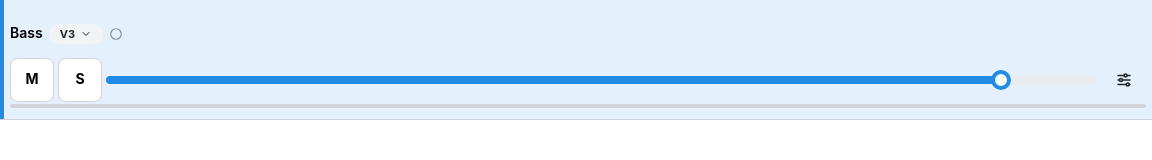
Test: TrackStrip mono/stereo mark › dual mono: the tooltip names the source
This screenshot has width=1152, height=160.
Hover over the picture named "Mono (dual mono source)" at (116, 34), box left=110, top=26, right=124, bottom=40
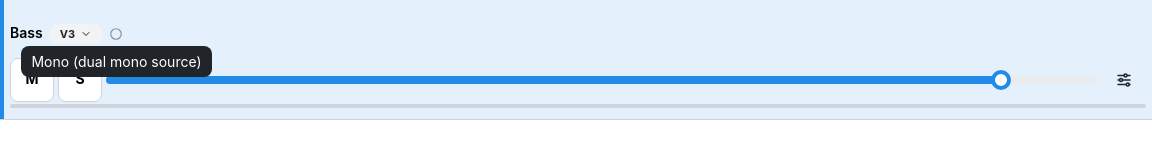
Result: the tooltip reads "Mono (dual mono source)" at left=31, top=52, right=202, bottom=70
